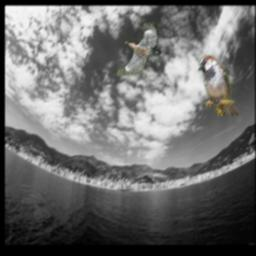Sparrow: (198, 56, 239, 117)
Woodpecker: (116, 21, 160, 76)
